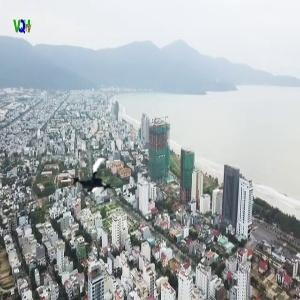drone: (70, 150, 126, 206)
